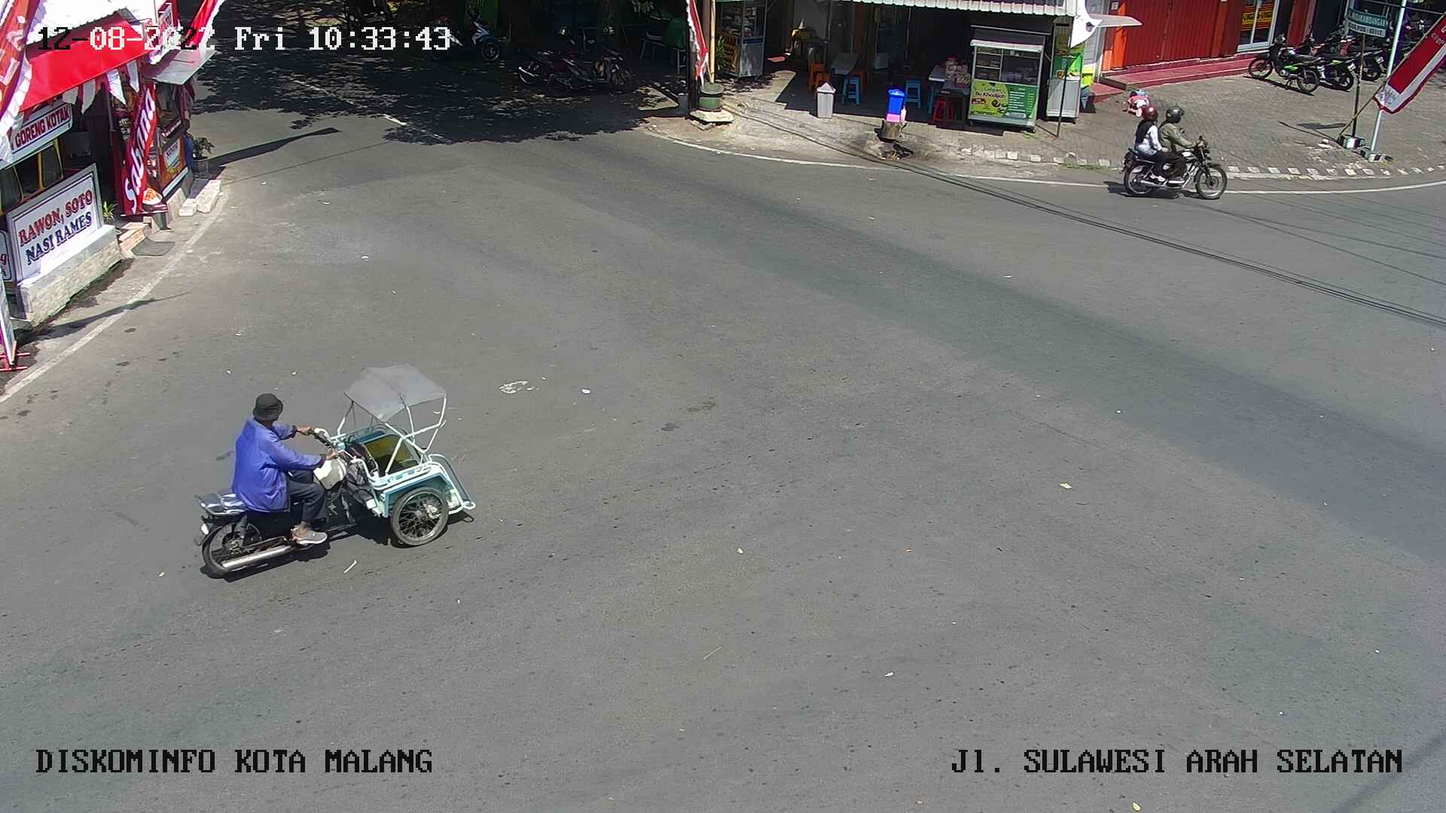without_helmet: (151, 364, 490, 582)
